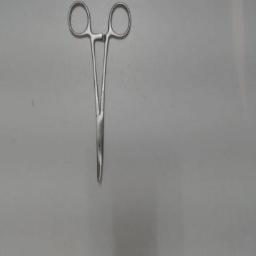Crile Artery Forceps: (67, 0, 135, 188)
